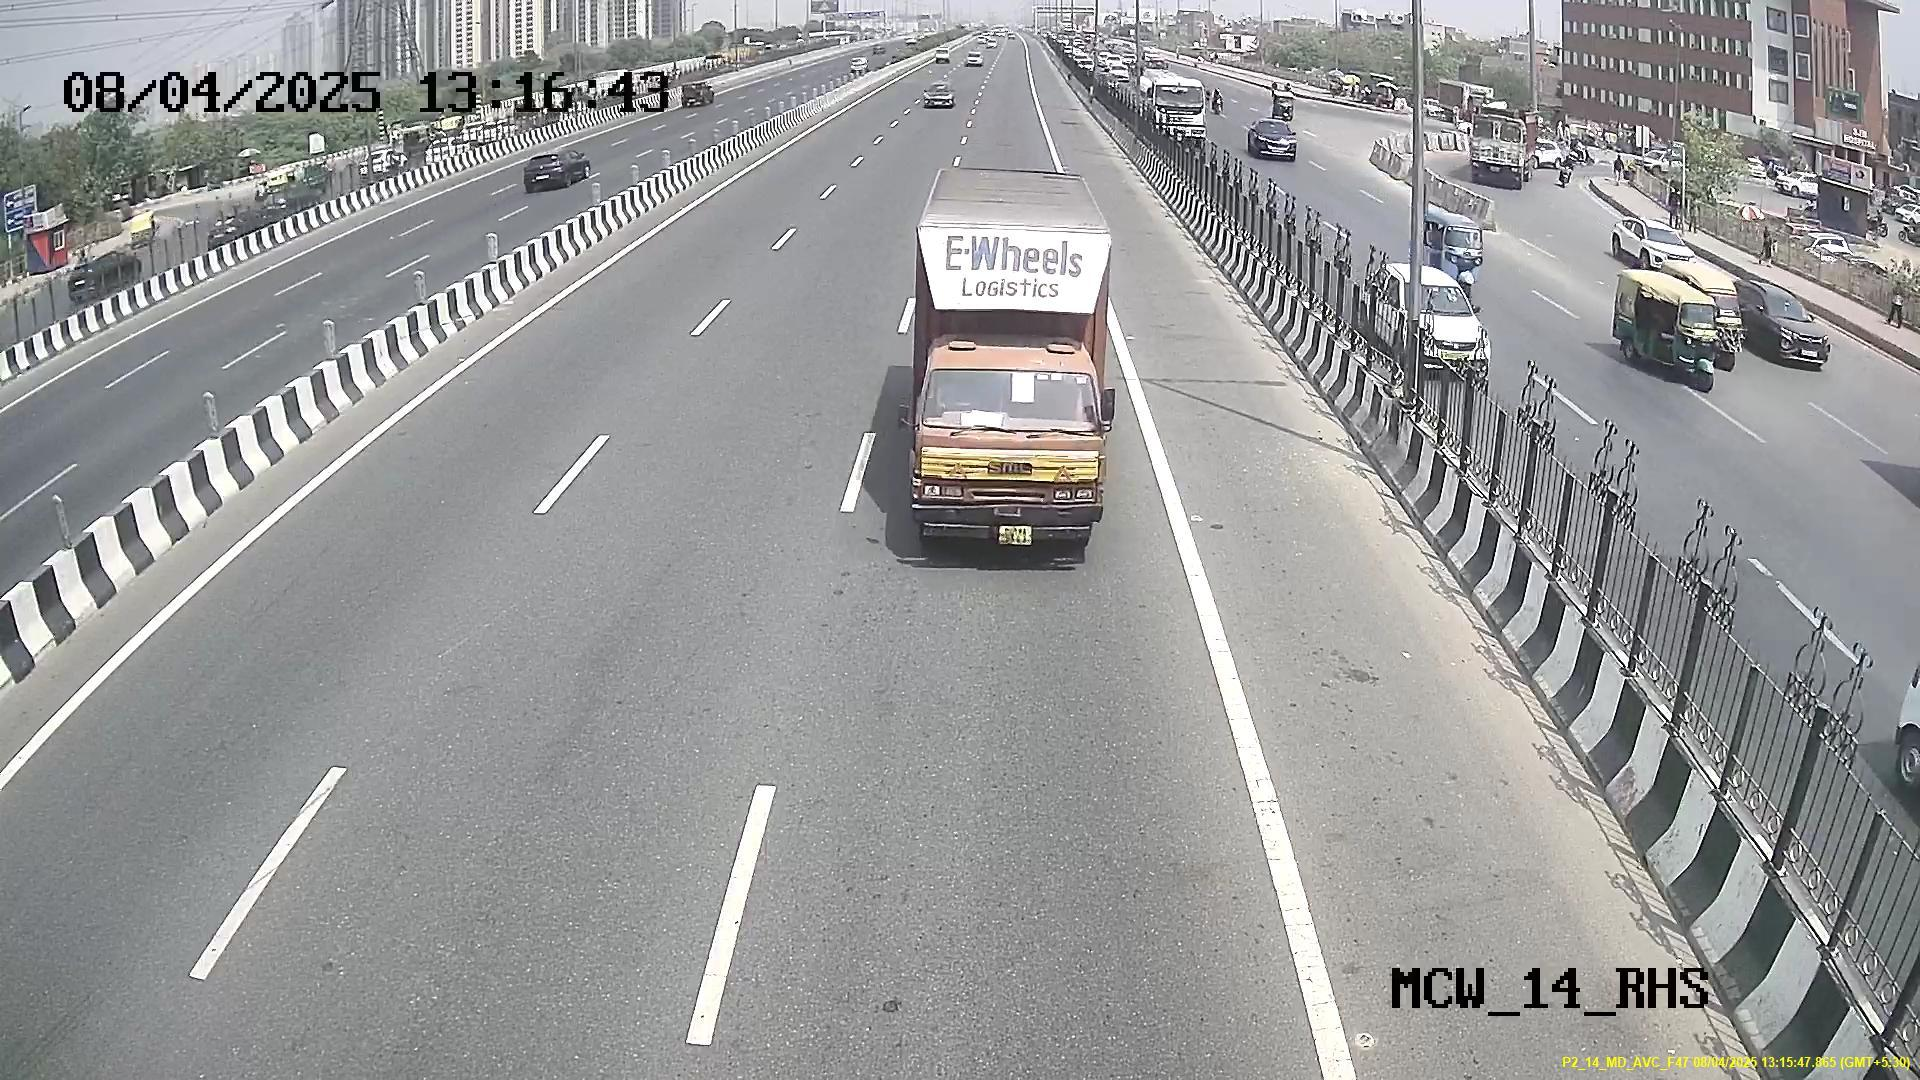lcv: (906, 347, 1101, 563)
